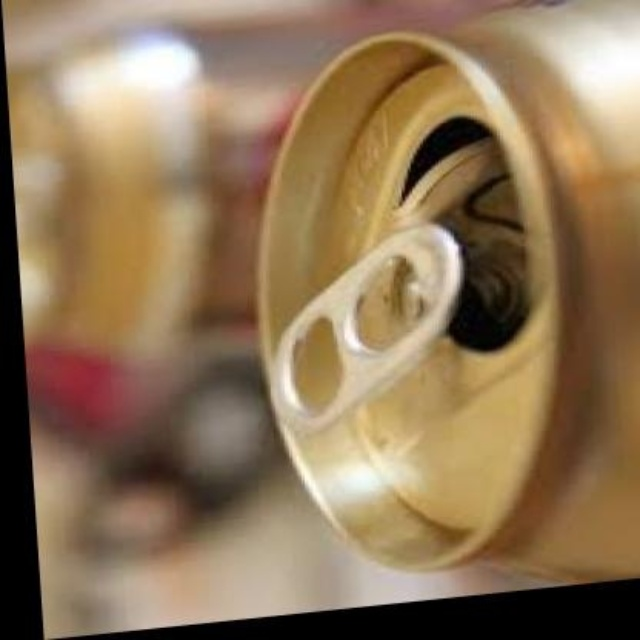trash: (258, 2, 638, 580)
